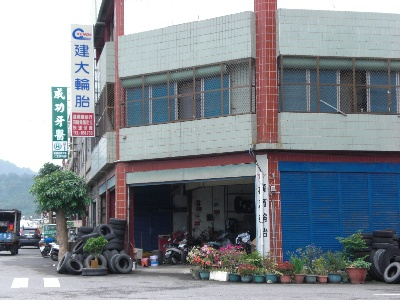bucket: (149, 255, 159, 267)
styrofoam: (208, 270, 229, 282)
tire: (383, 261, 400, 284), (115, 253, 133, 273), (56, 252, 71, 273), (66, 258, 83, 275), (82, 267, 108, 276), (373, 230, 394, 238), (103, 243, 122, 251), (372, 237, 394, 243), (109, 218, 127, 224), (79, 226, 93, 233)
